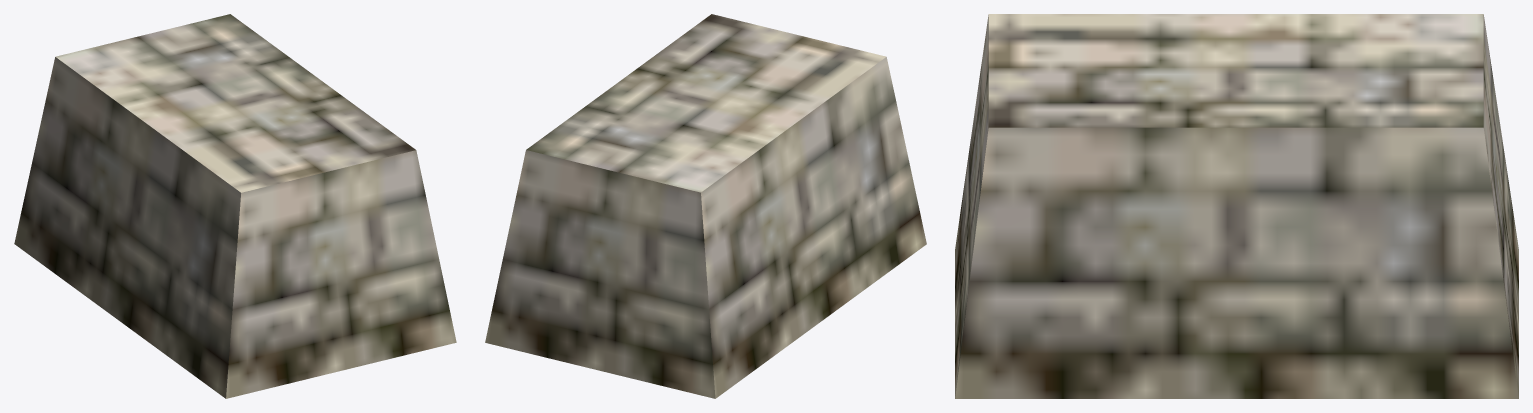
Rendered from medium-brick.glb.
The picture shows the model from 3 angles, left to right: view 1: azimuth 30°, elevation 25°; view 2: azimuth 150°, elevation 25°; view 3: azimuth 270°, elevation 25°; orthographic projection. The views are drawn at different scales.
Parts seen in each view (by area): view 1: building construction g medium brickModel; view 2: building construction g medium brickModel; view 3: building construction g medium brickModel.
Boxes of the visible parts, left/top/right/bottom form: building construction g medium brickModel: left=14, top=14, right=456, bottom=398; building construction g medium brickModel: left=485, top=14, right=926, bottom=398; building construction g medium brickModel: left=955, top=14, right=1518, bottom=398.
Size of the model in its own units: 0.8281 by 0.6523 by 1.32.
2 materials, 1 textured.
